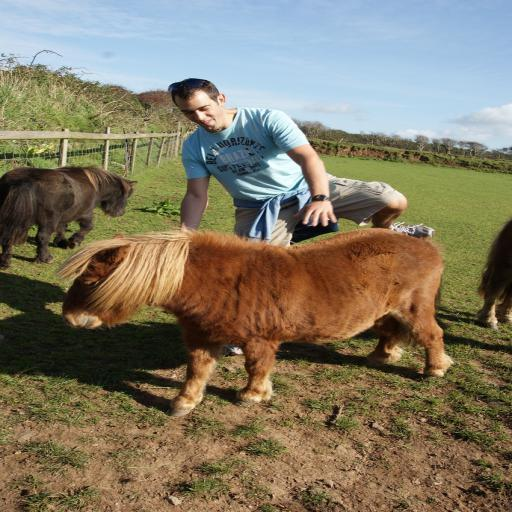horse: (54, 230, 456, 420), (0, 168, 138, 274)
